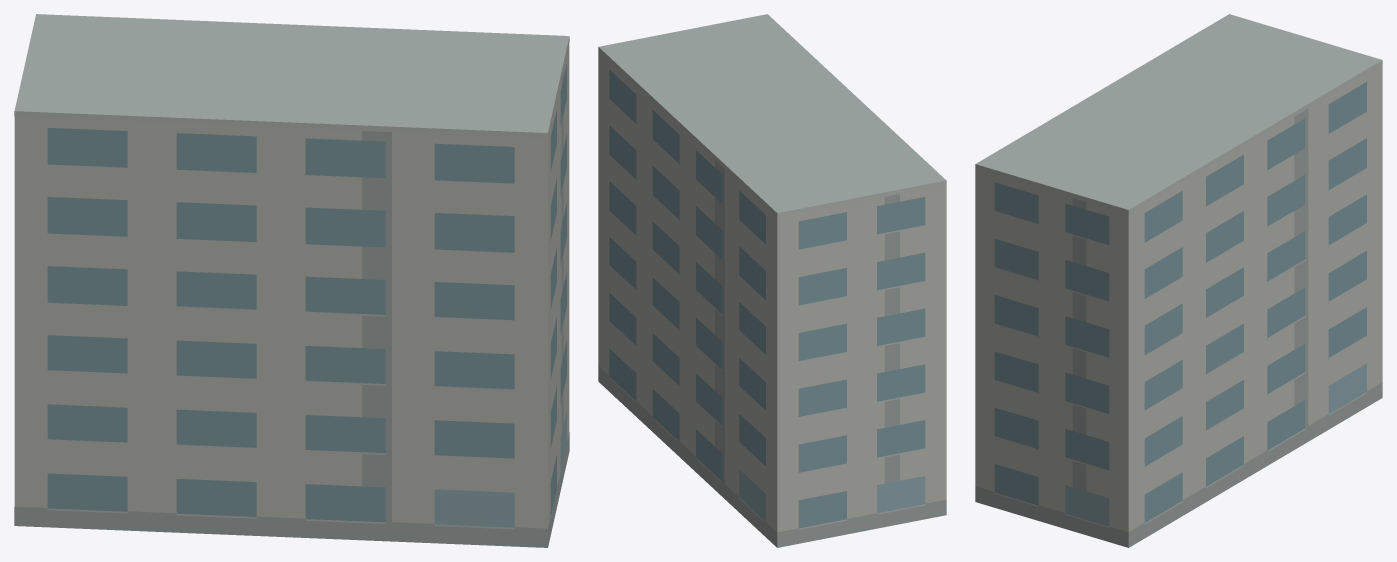
File: survey-upis-32554314.glb
The picture shows the model from 3 angles, left to right: view 1: azimuth 30°, elevation 25°; view 2: azimuth 150°, elevation 25°; view 3: azimuth 270°, elevation 25°; orthographic projection. The views are drawn at different scales.
Parts seen in each view (by area): view 1: survey-upis-32554314.tmp; view 2: survey-upis-32554314.tmp; view 3: survey-upis-32554314.tmp.
Boxes of the visible parts, box(x1,y1,x2,y2) form: survey-upis-32554314.tmp: box(14, 14, 569, 547); survey-upis-32554314.tmp: box(598, 14, 946, 547); survey-upis-32554314.tmp: box(975, 14, 1382, 547).
Size of the model in its own units: 22.78 by 18.3 by 19.99.
